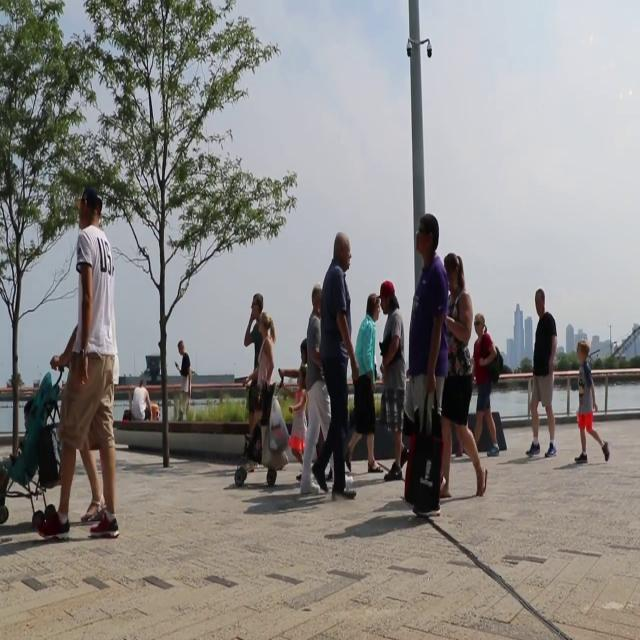normal: (50, 175, 128, 539), (316, 228, 360, 503), (526, 286, 558, 469), (571, 336, 615, 469)
